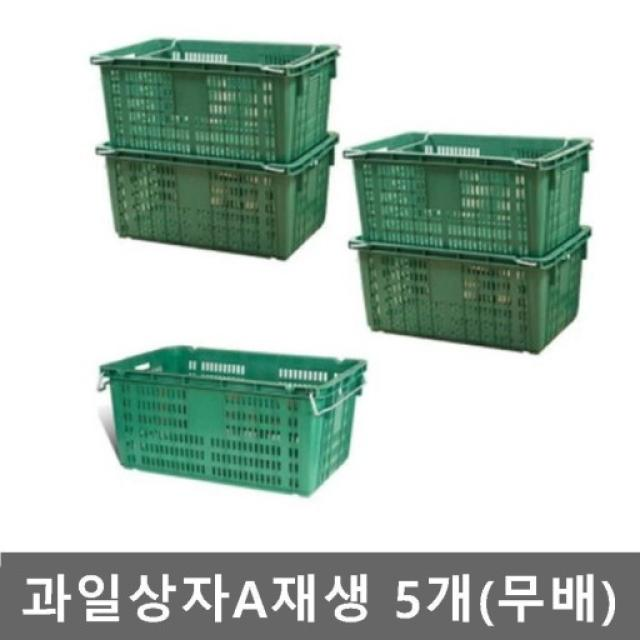basket: (91, 340, 368, 500), (91, 121, 339, 262), (86, 35, 338, 164), (342, 130, 591, 259), (351, 228, 592, 353)
